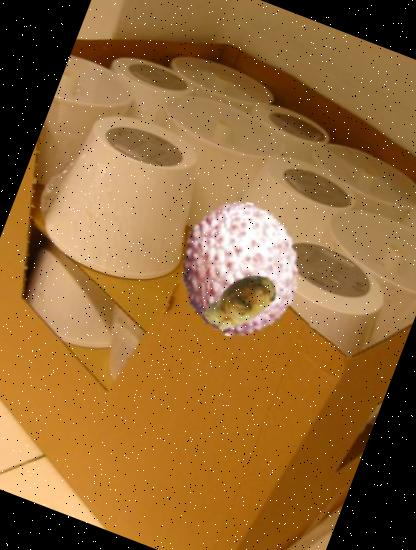Ginger: (189, 253, 290, 354)
Lychee: (153, 182, 329, 358)
